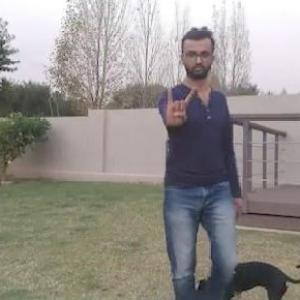takeoff-hand: (160, 74, 198, 130)
